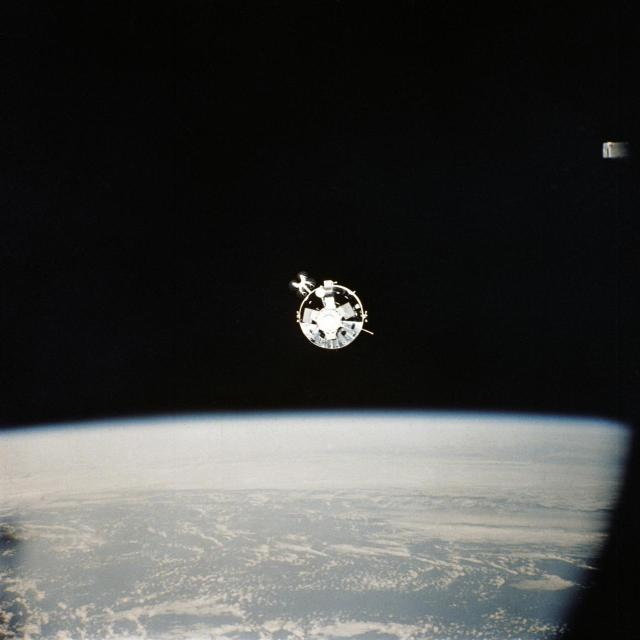satellite: (288, 266, 376, 356)
